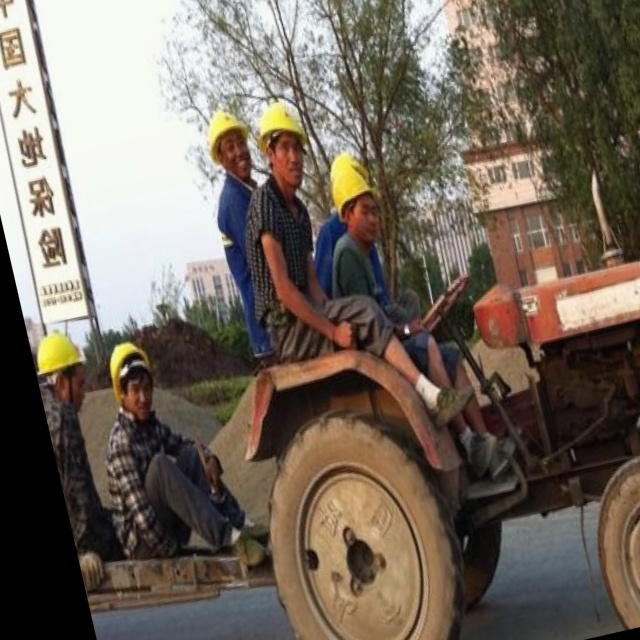Con_Casco: (250, 93, 324, 197)
